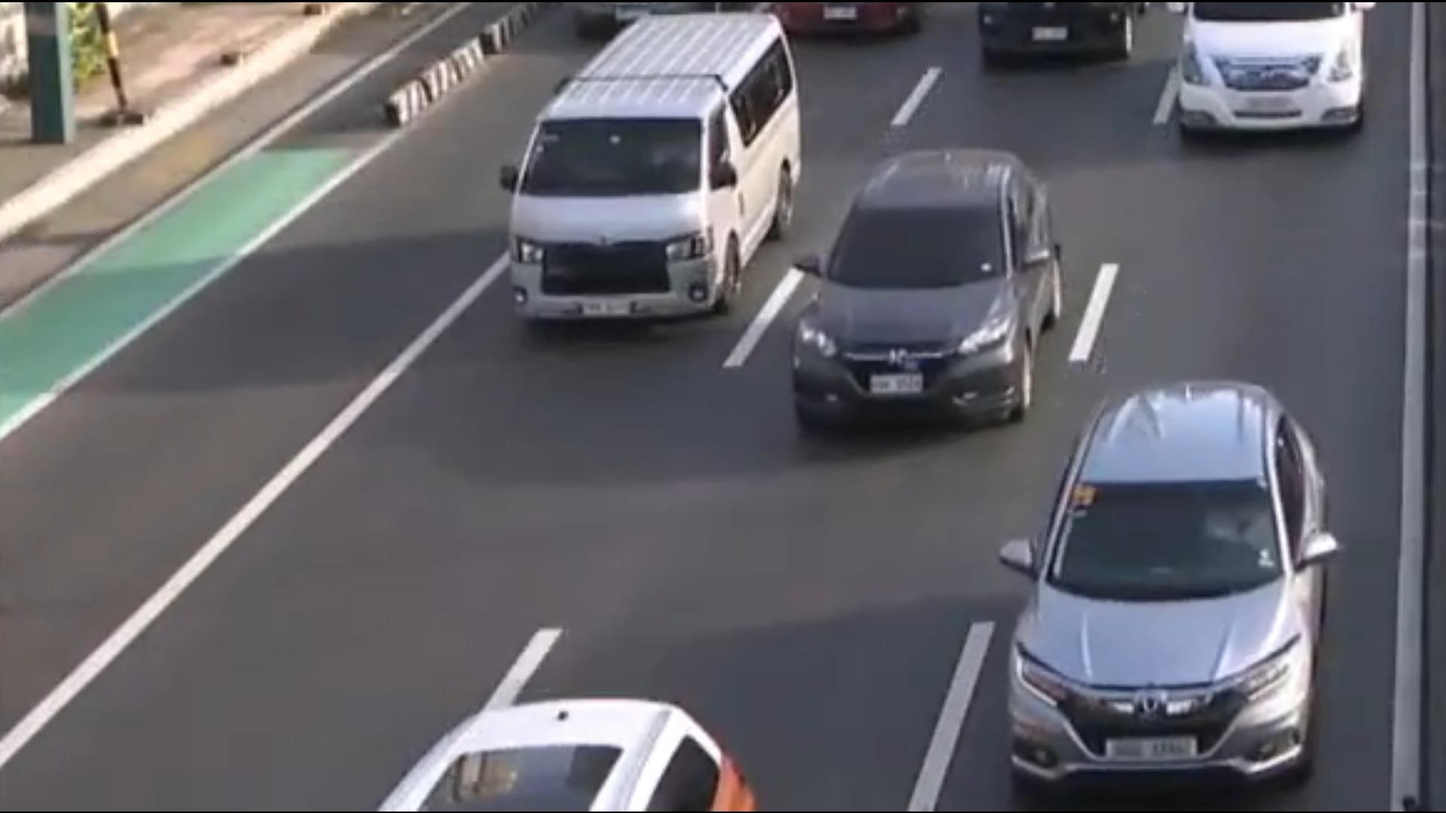Sedan: (992, 378, 1335, 783), (796, 139, 1068, 427), (418, 691, 768, 813)
Van: (503, 17, 800, 337), (1179, 0, 1373, 141)
